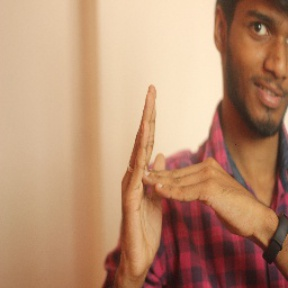Z: (109, 74, 261, 263)
